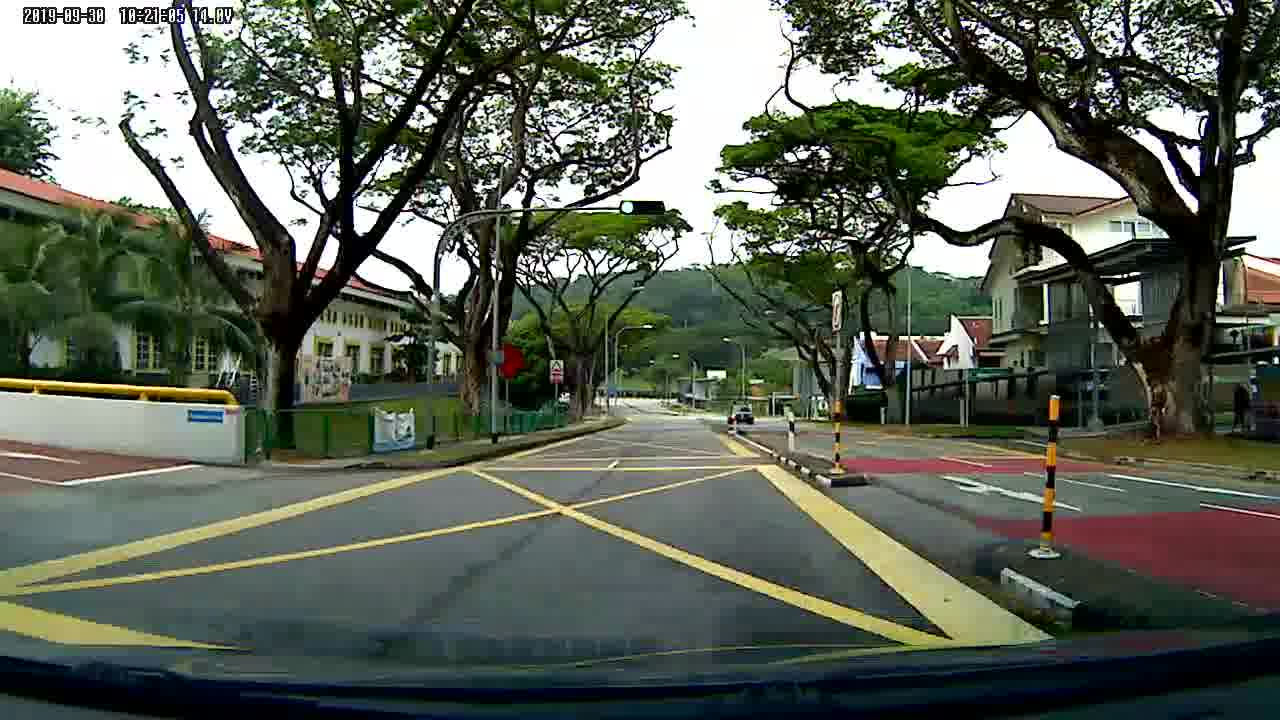car: (725, 401, 756, 427)
